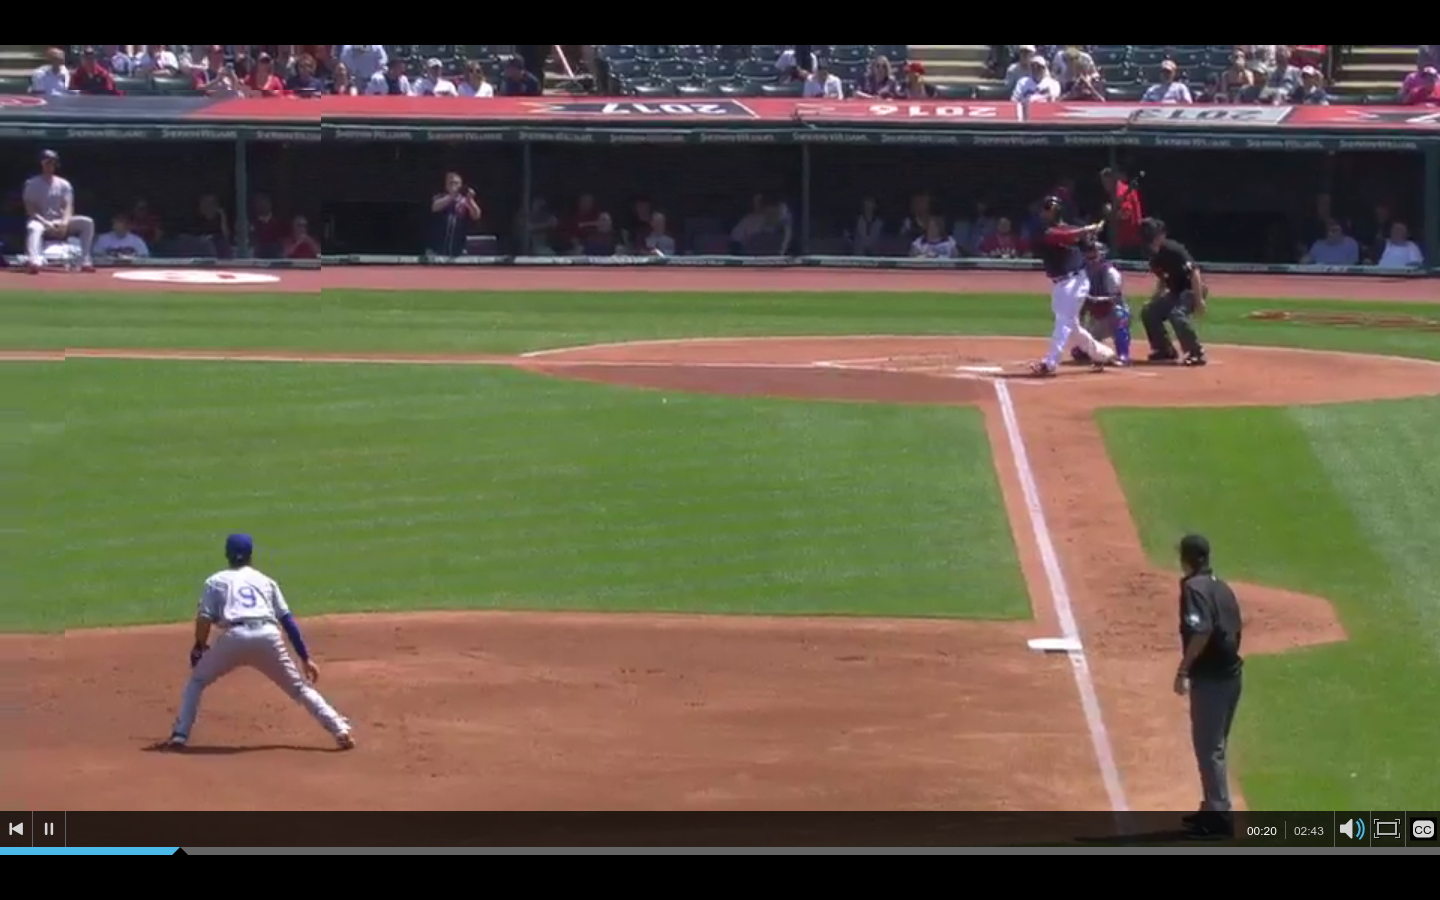baseball player: (161, 523, 356, 757), (1039, 192, 1092, 369), (1082, 246, 1142, 365)
referee: (1165, 526, 1255, 808), (1132, 212, 1222, 365)
